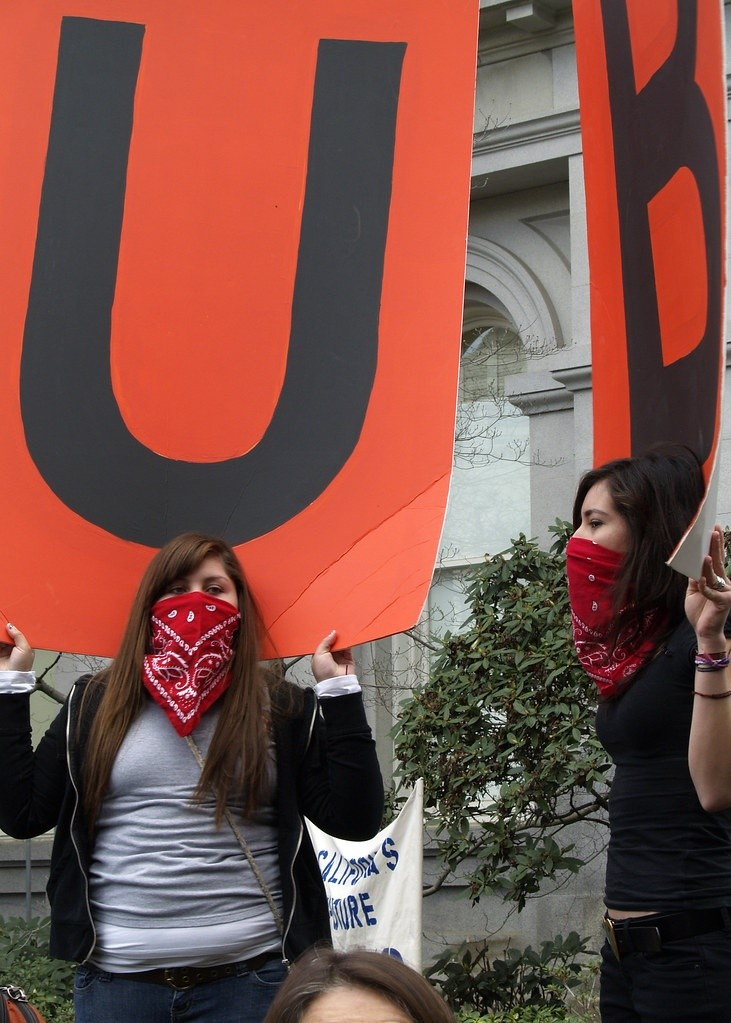face_with_mask: (562, 468, 685, 630), (144, 535, 248, 695)
